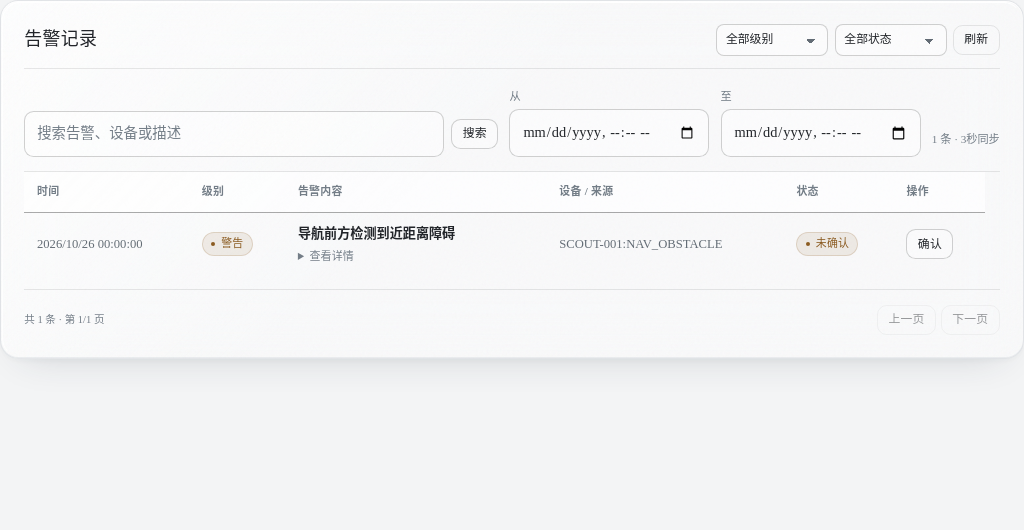
Test: alarm processing › monitor acknowledges and sees persistent actor/time without pretending fault recovery
Click the button "确认".
click(930, 244)  # box x1=906 y1=229 x2=953 y2=259
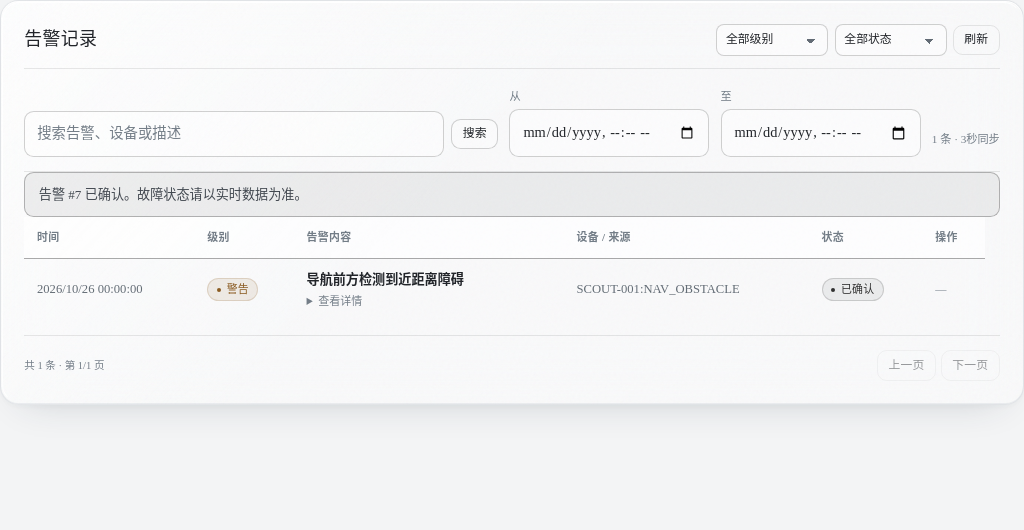
Click the heading "查看详情".
click(340, 301)  # box x1=318 y1=295 x2=362 y2=307
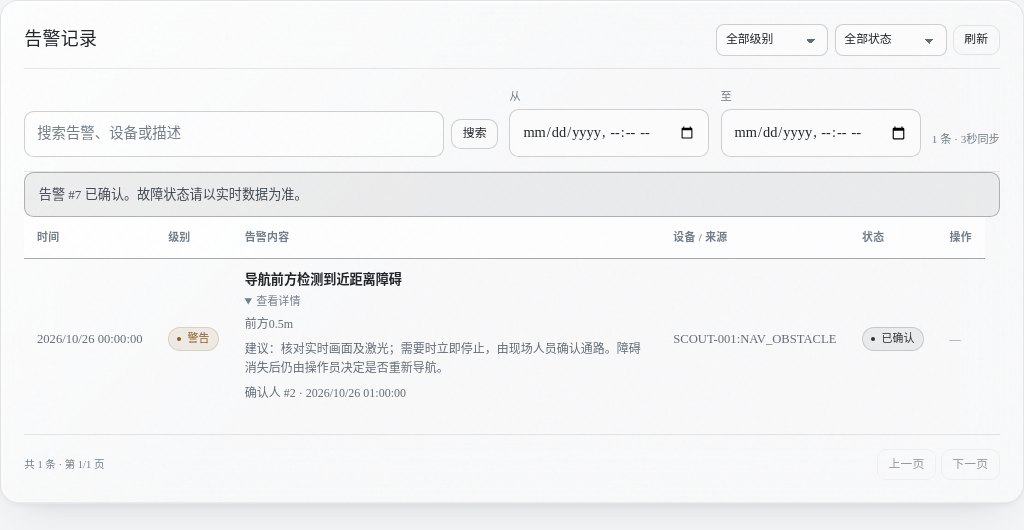
Result: the message shows "故障状态请以实时数据为准" at x1=39 y1=187 x2=308 y2=202
Result: the text "确认人 #2 · 2026/10/26 01:00:00" is shown at x1=245 y1=386 x2=406 y2=400
